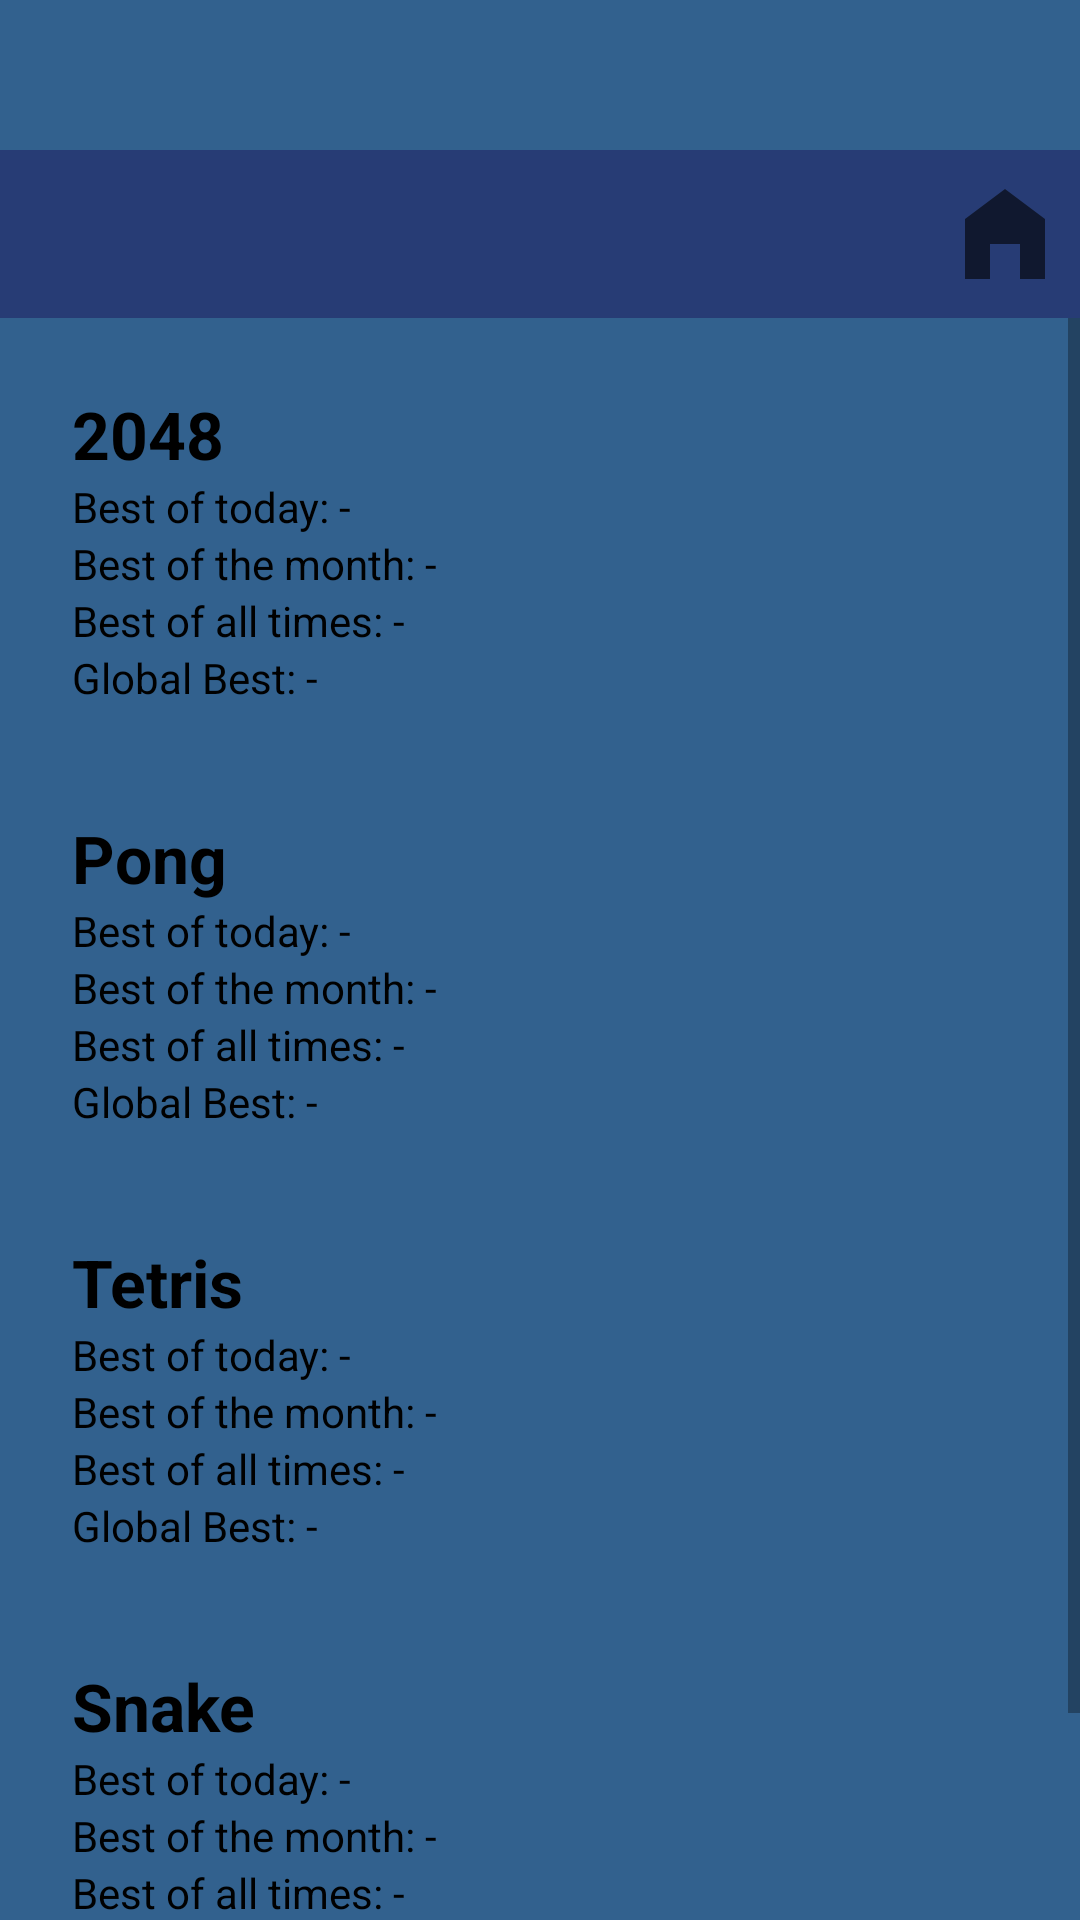

Screen size 1080px x 1920px. Icon name, then its center in pixels as point (x, y):
Home: point (1005, 234)
